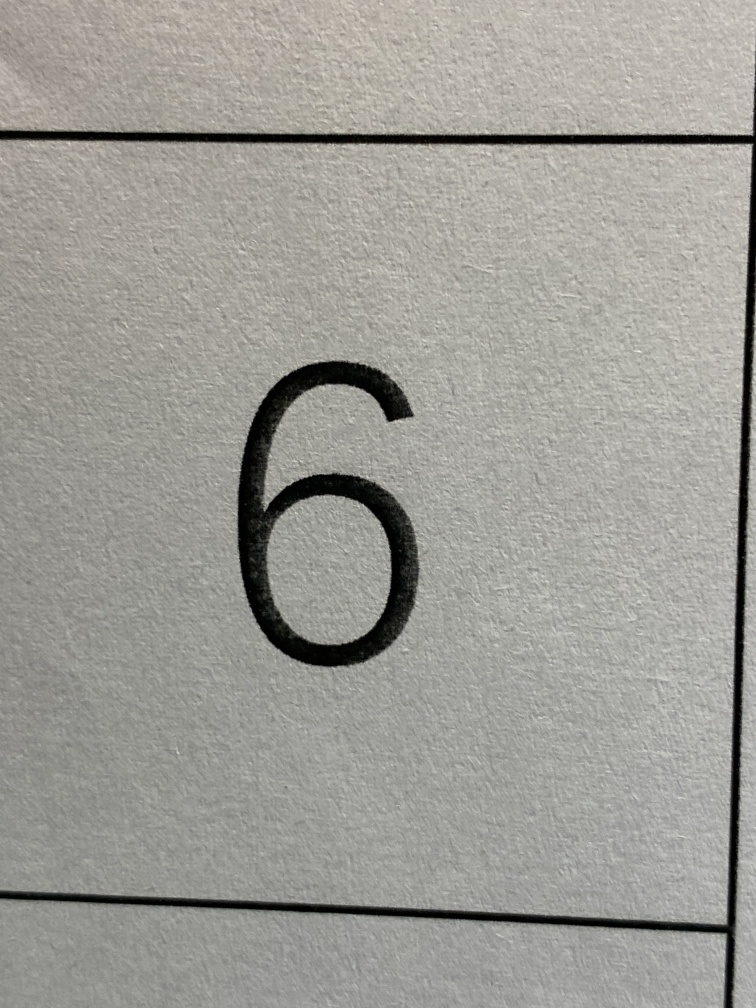six: (172, 318, 489, 723)
